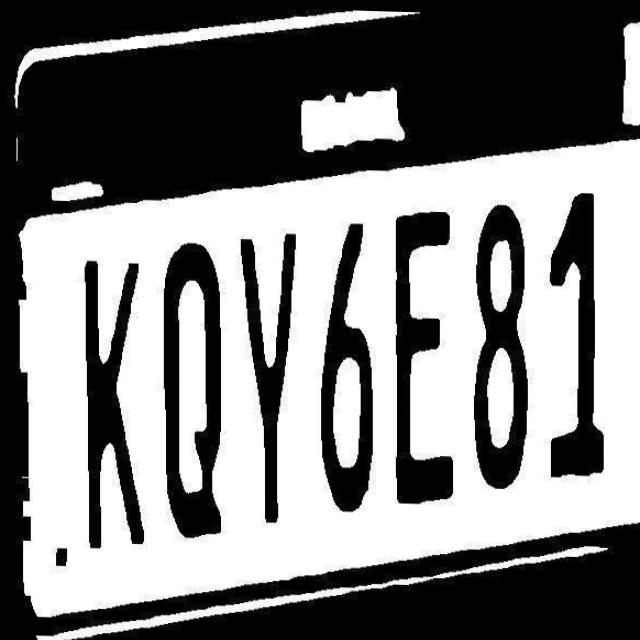1: (541, 185, 618, 501)
6: (314, 211, 386, 526)
8: (462, 200, 535, 509)
e: (377, 199, 466, 515)
k: (64, 232, 148, 552)
q: (157, 221, 229, 548)
y: (238, 211, 305, 530)
